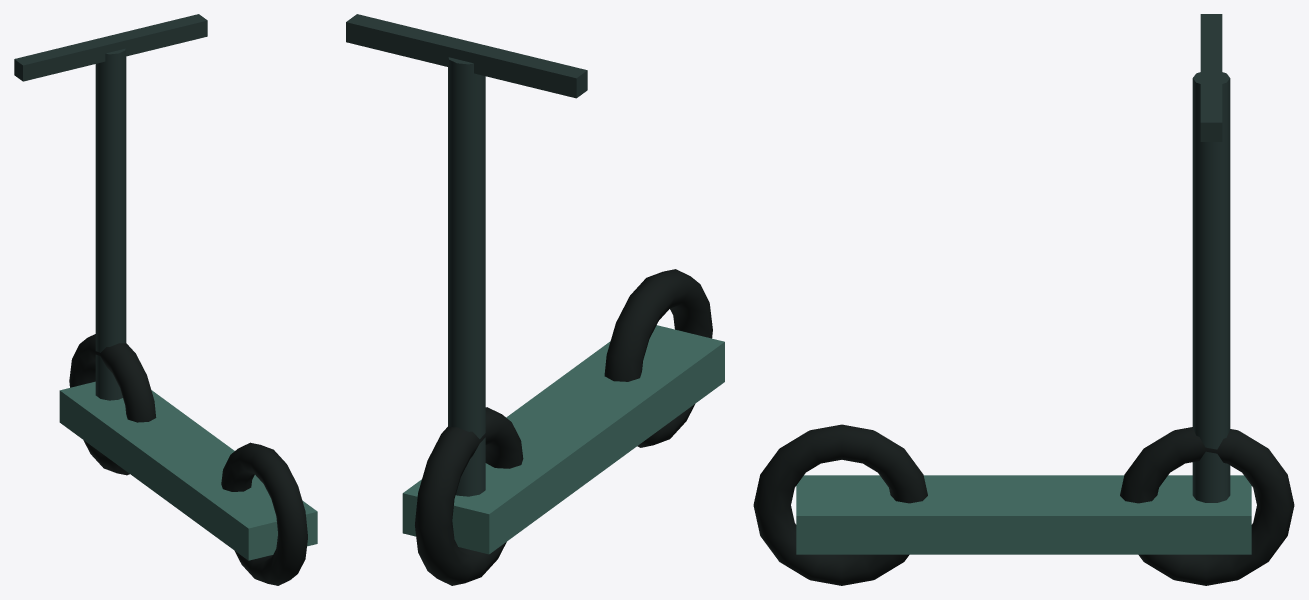
File: scooter.glb
3 views of the same model, side by side, from view 1: azimuth 30°, elevation 25°; view 2: azimuth 150°, elevation 25°; view 3: azimuth 270°, elevation 25° (orthographic). The views are drawn at different scales.
Visible parts, largest first — view 1: scooter; view 2: scooter; view 3: scooter.
Part boxes in pixels (<box>): scooter: <box>14,14,317,585</box>; scooter: <box>346,14,724,585</box>; scooter: <box>753,14,1294,585</box>.
Bounding box in the file's own units: 0.48 × 1.07 × 1.01.
